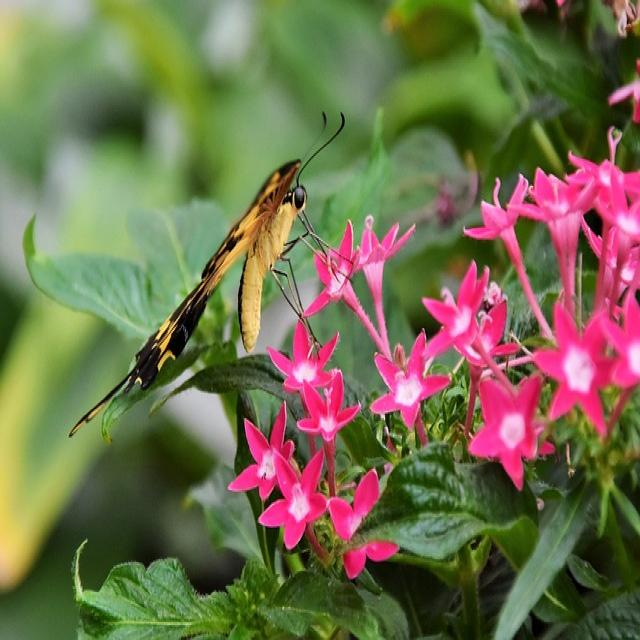butterfly: (72, 160, 307, 436)
